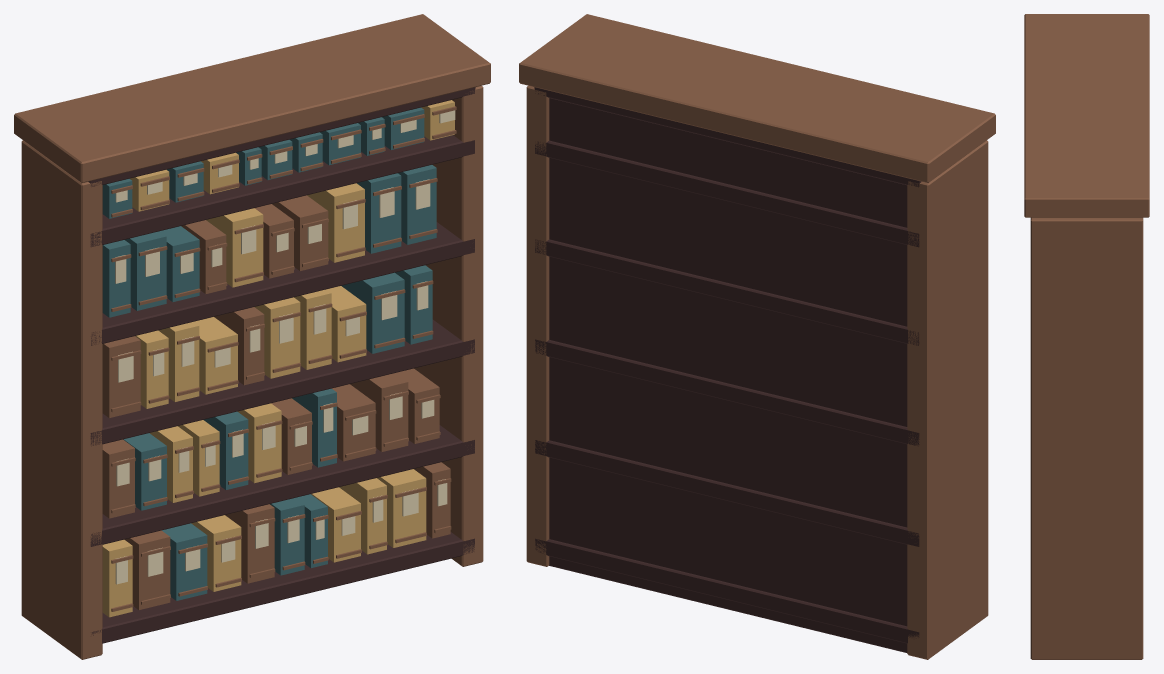
Rendered from scripture_shelf.glb.
The picture shows the model from 3 angles, left to right: view 1: azimuth 30°, elevation 25°; view 2: azimuth 150°, elevation 25°; view 3: azimuth 270°, elevation 25°; orthographic projection. The views are drawn at different scales.
Parts seen in each view (by area): view 1: scripture_shelf_Cedar, scripture_shelf_Timber, scripture_shelf_Bronze, scripture_shelf_Fabric, scripture_shelf_Plaster; view 2: scripture_shelf_Timber, scripture_shelf_Cedar; view 3: scripture_shelf_Cedar.
Boxes of the visible parts, left/top/right/bottom form: scripture_shelf_Cedar: left=14, top=14, right=490, bottom=659; scripture_shelf_Timber: left=88, top=87, right=475, bottom=643; scripture_shelf_Bronze: left=102, top=100, right=454, bottom=617; scripture_shelf_Fabric: left=102, top=107, right=436, bottom=600; scripture_shelf_Plaster: left=115, top=110, right=455, bottom=584; scripture_shelf_Timber: left=534, top=87, right=921, bottom=652; scripture_shelf_Cedar: left=519, top=14, right=995, bottom=659; scripture_shelf_Cedar: left=1024, top=14, right=1149, bottom=659.
Size of the model in its own units: 2.65 by 3.1 by 0.76.
